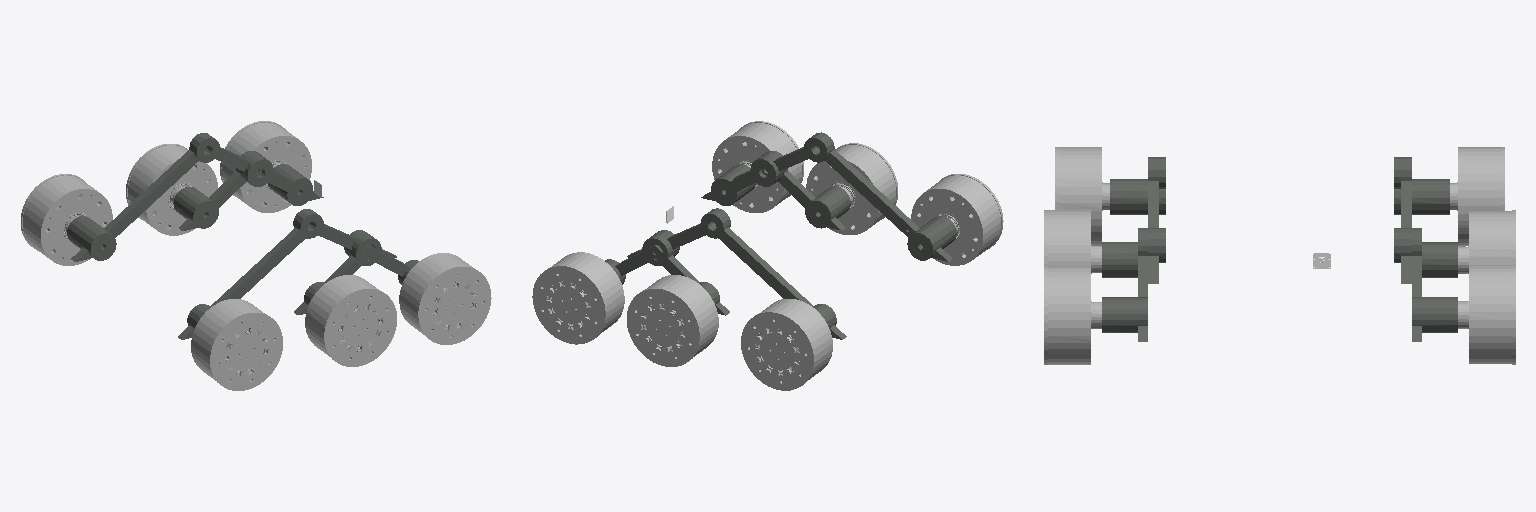
robot.urdf — auriga:
<?xml version="1.0" encoding="utf-8"?>
<!-- This URDF was automatically created by SolidWorks to URDF Exporter! Originally created by [author] ([email redacted]) 
     Commit Version: 1.6.0-4-g7f85cfe  Build Version: 1.6.7995.38578
     For more information, please see http://wiki.ros.org/sw_urdf_exporter -->
<robot
  name="auriga">
  <link
    name="base_link">
    <inertial>
      <origin
        xyz="-0.064102 0.13058 0.075146"
        rpy="0 0 0" />
      <mass
        value="7" />
      <inertia
        ixx="0.054205"
        ixy="5.3255E-05"
        ixz="0.003306"
        iyy="0.049215"
        iyz="1.0185E-06"
        izz="0.077749" />
    </inertial>
    <visual>
      <origin
        xyz="0 0 0"
        rpy="0 0 0" />
      <geometry>
        <mesh
          filename="package://auriga/meshes/base_link.STL" />
      </geometry>
      <material
        name="">
        <color
          rgba="0.2 0.2 0.2 1" />
      </material>
    </visual>
    <collision>
      <origin
        xyz="0 0 0"
        rpy="0 0 0" />
      <geometry>
        <mesh
          filename="package://auriga/meshes/base_link.STL" />
      </geometry>
    </collision>
  </link>
  <link
    name="rocker_1_link">
    <inertial>
      <origin
        xyz="-0.076932 -0.010223 -0.086892"
        rpy="0 0 0" />
      <mass
        value="1.5" />
      <inertia
        ixx="0.00055446"
        ixy="-0.00019575"
        ixz="-0.00089962"
        iyy="0.0036801"
        iyz="-7.225E-05"
        izz="0.0032548" />
    </inertial>
    <visual>
      <origin
        xyz="0 0 0"
        rpy="0 0 0" />
      <geometry>
        <mesh
          filename="package://auriga/meshes/rocker_1_link.STL" />
      </geometry>
      <material
        name="">
        <color
          rgba="0.42745 0.44706 0.42745 1" />
      </material>
    </visual>
    <collision>
      <origin
        xyz="0 0 0"
        rpy="0 0 0" />
      <geometry>
        <mesh
          filename="package://auriga/meshes/rocker_1_link.STL" />
      </geometry>
    </collision>
  </link>
  <joint
    name="rocker_1_joint"
    type="fixed">
    <origin
      xyz="-0.033 -0.0349903674977046 0.0926549569145568"
      rpy="0 0 0" />
    <parent
      link="base_link" />
    <child
      link="rocker_1_link" />
    <axis
      xyz="0 0 0" />
  </joint>
  <link
    name="bogie_1_link">
    <inertial>
      <origin
        xyz="-0.00063117 -0.014617 -0.067982"
        rpy="0 0 0" />
      <mass
        value="1.3" />
      <inertia
        ixx="0.00018539"
        ixy="-2.4832E-07"
        ixz="9.7781E-06"
        iyy="0.0012984"
        iyz="-2.6746E-05"
        izz="0.0012385" />
    </inertial>
    <visual>
      <origin
        xyz="0 0 0"
        rpy="0 0 0" />
      <geometry>
        <mesh
          filename="package://auriga/meshes/bogie_1_link.STL" />
      </geometry>
      <material
        name="">
        <color
          rgba="0.42745 0.44706 0.42745 1" />
      </material>
    </visual>
    <collision>
      <origin
        xyz="0 0 0"
        rpy="0 0 0" />
      <geometry>
        <mesh
          filename="package://auriga/meshes/bogie_1_link.STL" />
      </geometry>
    </collision>
  </link>
  <joint
    name="bogie_1_joint"
    type="revolute">
    <origin
      xyz="0.10013 -0.02051 -0.053968"
      rpy="0 0 0" />
    <parent
      link="rocker_1_link" />
    <child
      link="bogie_1_link" />
    <axis
      xyz="0 1 0" />
    <limit
      lower="-0.785"
      upper="0.785"
      effort="10"
      velocity="5" />
  </joint>
  <link
    name="wheel_5_link">
    <inertial>
      <origin
        xyz="-2.0878E-07 0.0041615 5.2366E-08"
        rpy="0 0 0" />
      <mass
        value="1" />
      <inertia
        ixx="0.0014002"
        ixy="-1.0049E-08"
        ixz="3.9839E-08"
        iyy="0.0021983"
        iyz="8.9136E-09"
        izz="0.0014002" />
    </inertial>
    <visual>
      <origin
        xyz="0 0 0"
        rpy="0 0 0" />
      <geometry>
        <mesh
          filename="package://auriga/meshes/wheel_5_link.STL" />
      </geometry>
      <material
        name="">
        <color
          rgba="0.75294 0.75294 0.75294 1" />
      </material>
    </visual>
    <collision>
      <origin
        xyz="0 0 0"
        rpy="0 0 0" />
      <geometry>
        <mesh
          filename="package://auriga/meshes/wheel_5_link.STL" />
      </geometry>
    </collision>
  </link>
  <joint
    name="wheel_5_joint"
    type="continuous">
    <origin
      xyz="-0.090727 -0.10265 -0.077849"
      rpy="0 0 0" />
    <parent
      link="bogie_1_link" />
    <child
      link="wheel_5_link" />
    <axis
      xyz="0 1 0" />
  </joint>
  <link
    name="wheel_6_link">
    <inertial>
      <origin
        xyz="0.38939 -0.010839 -0.00083276"
        rpy="0 0 0" />
      <mass
        value="1" />
      <inertia
        ixx="0.0014001"
        ixy="-1.1975E-08"
        ixz="3.1911E-08"
        iyy="0.0021983"
        iyz="6.0868E-09"
        izz="0.0014002" />
    </inertial>
    <visual>
      <origin
        xyz="0 0 0"
        rpy="0 0 0" />
      <geometry>
        <mesh
          filename="package://auriga/meshes/wheel_6_link.STL" />
      </geometry>
      <material
        name="">
        <color
          rgba="0.75294 0.75294 0.75294 1" />
      </material>
    </visual>
    <collision>
      <origin
        xyz="0 0 0"
        rpy="0 0 0" />
      <geometry>
        <mesh
          filename="package://auriga/meshes/wheel_6_link.STL" />
      </geometry>
    </collision>
  </link>
  <joint
    name="wheel_6_joint"
    type="continuous">
    <origin
      xyz="-0.30013 -0.08765 -0.078687"
      rpy="0 0 0" />
    <parent
      link="bogie_1_link" />
    <child
      link="wheel_6_link" />
    <axis
      xyz="0 1 0" />
  </joint>
  <link
    name="wheel_4_link">
    <inertial>
      <origin
        xyz="-0.38939 0.019161 0.00083282"
        rpy="0 0 0" />
      <mass
        value="1" />
      <inertia
        ixx="0.0014001"
        ixy="1.3224E-08"
        ixz="1.2945E-08"
        iyy="0.0021983"
        iyz="-2.3574E-09"
        izz="0.0014002" />
    </inertial>
    <visual>
      <origin
        xyz="0 0 0"
        rpy="0 0 0" />
      <geometry>
        <mesh
          filename="package://auriga/meshes/wheel_4_link.STL" />
      </geometry>
      <material
        name="">
        <color
          rgba="0.75294 0.75294 0.75294 1" />
      </material>
    </visual>
    <collision>
      <origin
        xyz="0 0 0"
        rpy="0 0 0" />
      <geometry>
        <mesh
          filename="package://auriga/meshes/wheel_4_link.STL" />
      </geometry>
    </collision>
  </link>
  <joint
    name="wheel_4_joint"
    type="continuous">
    <origin
      xyz="0.18939 -0.12316 -0.13349"
      rpy="0 0 0" />
    <parent
      link="rocker_1_link" />
    <child
      link="wheel_4_link" />
    <axis
      xyz="0 1 0" />
  </joint>
  <link
    name="rocker_2_link">
    <inertial>
      <origin
        xyz="-0.10993 0.31637 0.0057628"
        rpy="0 0 0" />
      <mass
        value="1.5" />
      <inertia
        ixx="0.00055446"
        ixy="0.00019575"
        ixz="-0.00089962"
        iyy="0.0036801"
        iyz="7.225E-05"
        izz="0.0032548" />
    </inertial>
    <visual>
      <origin
        xyz="0 0 0"
        rpy="0 0 0" />
      <geometry>
        <mesh
          filename="package://auriga/meshes/rocker_2_link.STL" />
      </geometry>
      <material
        name="">
        <color
          rgba="0.42745 0.44706 0.42745 1" />
      </material>
    </visual>
    <collision>
      <origin
        xyz="0 0 0"
        rpy="0 0 0" />
      <geometry>
        <mesh
          filename="package://auriga/meshes/rocker_2_link.STL" />
      </geometry>
    </collision>
  </link>
  <joint
    name="rocker_2_joint"
    type="fixed">
    <origin
      xyz="0 0 0"
      rpy="0 0 0" />
    <parent
      link="base_link" />
    <child
      link="rocker_2_link" />
    <axis
      xyz="0 0 0" />
  </joint>
  <link
    name="bogie_2_link">
    <inertial>
      <origin
        xyz="-0.00022018 0.014617 -0.067984"
        rpy="0 0 0" />
      <mass
        value="1.3" />
      <inertia
        ixx="0.00018531"
        ixy="8.6623E-08"
        ixz="3.4111E-06"
        iyy="0.0012984"
        iyz="2.6747E-05"
        izz="0.0012386" />
    </inertial>
    <visual>
      <origin
        xyz="0 0 0"
        rpy="0 0 0" />
      <geometry>
        <mesh
          filename="package://auriga/meshes/bogie_2_link.STL" />
      </geometry>
      <material
        name="">
        <color
          rgba="0.42745 0.44706 0.42745 1" />
      </material>
    </visual>
    <collision>
      <origin
        xyz="0 0 0"
        rpy="0 0 0" />
      <geometry>
        <mesh
          filename="package://auriga/meshes/bogie_2_link.STL" />
      </geometry>
    </collision>
  </link>
  <joint
    name="bogie_2_joint"
    type="revolute">
    <origin
      xyz="0.0670443300803985 0.326654617315038 0.0386879525429506"
      rpy="0 0 0" />
    <parent
      link="rocker_2_link" />
    <child
      link="bogie_2_link" />
    <axis
      xyz="0 -1 0" />
    <limit
      lower="-0.785"
      upper="0.785"
      effort="10"
      velocity="5" />
  </joint>
  <link
    name="wheel_2_link">
    <inertial>
      <origin
        xyz="1.1827E-07 -0.0041615 1.7985E-07"
        rpy="0 0 0" />
      <mass
        value="1" />
      <inertia
        ixx="0.0014002"
        ixy="-1.366E-09"
        ixz="-9.1487E-09"
        iyy="0.0021983"
        iyz="-1.3363E-08"
        izz="0.0014001" />
    </inertial>
    <visual>
      <origin
        xyz="0 0 0"
        rpy="0 0 0" />
      <geometry>
        <mesh
          filename="package://auriga/meshes/wheel_2_link.STL" />
      </geometry>
      <material
        name="">
        <color
          rgba="0.75294 0.75294 0.75294 1" />
      </material>
    </visual>
    <collision>
      <origin
        xyz="0 0 0"
        rpy="0 0 0" />
      <geometry>
        <mesh
          filename="package://auriga/meshes/wheel_2_link.STL" />
      </geometry>
    </collision>
  </link>
  <joint
    name="wheel_2_joint"
    type="continuous">
    <origin
      xyz="-0.090254 0.10265 -0.078396"
      rpy="0 0 0" />
    <parent
      link="bogie_2_link" />
    <child
      link="wheel_2_link" />
    <axis
      xyz="0 -1 0" />
  </joint>
  <link
    name="wheel_1_link">
    <inertial>
      <origin
        xyz="-5.2503E-08 -0.0041615 2.0875E-07"
        rpy="0 0 0" />
      <mass
        value="1" />
      <inertia
        ixx="0.0014002"
        ixy="8.9202E-09"
        ixz="3.9846E-08"
        iyy="0.0021983"
        iyz="-1.0043E-08"
        izz="0.0014002" />
    </inertial>
    <visual>
      <origin
        xyz="0 0 0"
        rpy="0 0 0" />
      <geometry>
        <mesh
          filename="package://auriga/meshes/wheel_1_link.STL" />
      </geometry>
      <material
        name="">
        <color
          rgba="0.75294 0.75294 0.75294 1" />
      </material>
    </visual>
    <collision>
      <origin
        xyz="0 0 0"
        rpy="0 0 0" />
      <geometry>
        <mesh
          filename="package://auriga/meshes/wheel_1_link.STL" />
      </geometry>
    </collision>
  </link>
  <joint
    name="wheel_1_joint"
    type="continuous">
    <origin
      xyz="0.089745 0.10265 -0.078979"
      rpy="0 0 0" />
    <parent
      link="bogie_2_link" />
    <child
      link="wheel_1_link" />
    <axis
      xyz="0 -1 0" />
  </joint>
  <link
    name="wheel_3_link">
    <inertial>
      <origin
        xyz="-2.084E-07 -0.0041615 5.3851E-08"
        rpy="0 0 0" />
      <mass
        value="1" />
      <inertia
        ixx="0.0014001"
        ixy="1.3088E-08"
        ixz="-1.6727E-08"
        iyy="0.0021983"
        iyz="3.0227E-09"
        izz="0.0014002" />
    </inertial>
    <visual>
      <origin
        xyz="0 0 0"
        rpy="0 0 0" />
      <geometry>
        <mesh
          filename="package://auriga/meshes/wheel_3_link.STL" />
      </geometry>
      <material
        name="">
        <color
          rgba="0.75294 0.75294 0.75294 1" />
      </material>
    </visual>
    <collision>
      <origin
        xyz="0 0 0"
        rpy="0 0 0" />
      <geometry>
        <mesh
          filename="package://auriga/meshes/wheel_3_link.STL" />
      </geometry>
    </collision>
  </link>
  <joint
    name="wheel_3_joint"
    type="continuous">
    <origin
      xyz="-0.233 0.4143 -0.04"
      rpy="0 0 0" />
    <parent
      link="rocker_2_link" />
    <child
      link="wheel_3_link" />
    <axis
      xyz="0 -1 0" />
  </joint>
  <link
    name="lidar_link">
    <inertial>
      <origin
        xyz="-0.0068988 0.022525 -0.025224"
        rpy="0 0 0" />
      <mass
        value="0.2" />
      <inertia
        ixx="2.791E-05"
        ixy="1.5175E-07"
        ixz="3.35E-07"
        iyy="4.4351E-05"
        iyz="-2.9037E-08"
        izz="6.9475E-05" />
    </inertial>
    <visual>
      <origin
        xyz="0 0 0"
        rpy="0 0 0" />
      <geometry>
        <mesh
          filename="package://auriga/meshes/lidar_link.STL" />
      </geometry>
      <material
        name="">
        <color
          rgba="0.75294 0.75294 0.75294 1" />
      </material>
    </visual>
    <collision>
      <origin
        xyz="0 0 0"
        rpy="0 0 0" />
      <geometry>
        <mesh
          filename="package://auriga/meshes/lidar_link.STL" />
      </geometry>
    </collision>
  </link>
  <joint
    name="lidar_joint"
    type="fixed">
    <origin
      xyz="0.072107 0.11141 0.23235"
      rpy="0 0 0" />
    <parent
      link="base_link" />
    <child
      link="lidar_link" />
    <axis
      xyz="0 0 0" />
  </joint>
  <link
    name="camera_3d_link">
    <inertial>
      <origin
        xyz="-0.015535 0.001052 -0.0099096"
        rpy="0 0 0" />
      <mass
        value="0.1" />
      <inertia
        ixx="3.405E-05"
        ixy="-8.0297E-07"
        ixz="-3.2141E-07"
        iyy="1.0078E-05"
        iyz="1.6759E-08"
        izz="2.6539E-05" />
    </inertial>
    <visual>
      <origin
        xyz="0 0 0"
        rpy="0 0 0" />
      <geometry>
        <mesh
          filename="package://auriga/meshes/camera_3d_link.STL" />
      </geometry>
      <material
        name="">
        <color
          rgba="0.59216 0.66667 0.68235 1" />
      </material>
    </visual>
    <collision>
      <origin
        xyz="0 0 0"
        rpy="0 0 0" />
      <geometry>
        <mesh
          filename="package://auriga/meshes/camera_3d_link.STL" />
      </geometry>
    </collision>
  </link>
  <joint
    name="camera_3d_joint"
    type="fixed">
    <origin
      xyz="0.14663 0.11323 0.053793"
      rpy="0 0 0" />
    <parent
      link="base_link" />
    <child
      link="camera_3d_link" />
    <axis
      xyz="0 0 0" />
  </joint>
  <link
    name="camera_2d_link">
    <inertial>
      <origin
        xyz="0 0 0"
        rpy="0 0 0" />
      <mass
        value="0.1" />
      <inertia
        ixx="0"
        ixy="0"
        ixz="0"
        iyy="0"
        iyz="0"
        izz="0" />
    </inertial>
    <visual>
      <origin
        xyz="0 0 0"
        rpy="0 0 0" />
      <geometry>
        <mesh
          filename="package://auriga/meshes/camera_2d_link.STL" />
      </geometry>
      <material
        name="">
        <color
          rgba="1 1 1 1" />
      </material>
    </visual>
    <collision>
      <origin
        xyz="0 0 0"
        rpy="0 0 0" />
      <geometry>
        <mesh
          filename="package://auriga/meshes/camera_2d_link.STL" />
      </geometry>
    </collision>
  </link>
  <joint
    name="camera_2d_joint"
    type="fixed">
    <origin
      xyz="0.124556268215782 0.194110275120974 0.0275499999999748"
      rpy="0 0 3.14159265358979" />
    <parent
      link="base_link" />
    <child
      link="camera_2d_link" />
    <axis
      xyz="0 0 0" />
  </joint>
</robot>

--- Render facts (derived) ---
3 views of the same robot in one strip: view 1: azimuth 30°, elevation 25°; view 2: azimuth 150°, elevation 25°; view 3: azimuth 270°, elevation 25° (orthographic).
Robot: auriga — 14 links, 13 joints (2 revolute, 6 continuous, 5 fixed); root link base_link; default pose: every joint at zero.
Visible links, largest first — view 1: wheel_4_link, wheel_6_link, wheel_5_link, rocker_2_link, wheel_3_link, wheel_1_link, wheel_2_link, rocker_1_link, bogie_2_link, bogie_1_link; view 2: wheel_1_link, wheel_2_link, wheel_3_link, rocker_1_link, wheel_4_link, wheel_6_link, wheel_5_link, rocker_2_link, bogie_1_link, bogie_2_link; view 3: wheel_6_link, wheel_1_link, bogie_1_link, bogie_2_link, wheel_3_link, wheel_4_link, rocker_1_link, rocker_2_link, wheel_5_link, wheel_2_link.
Boxes of the visible links, x1,y1,x2,y2 form: wheel_4_link: (191,299,282,390); wheel_6_link: (399,253,491,344); wheel_5_link: (305,275,396,366); rocker_2_link: (67,133,291,261); wheel_3_link: (21,174,112,265); wheel_1_link: (220,121,311,212); wheel_2_link: (126,144,217,235); rocker_1_link: (178,209,396,339); bogie_2_link: (173,151,323,230); bogie_1_link: (294,235,418,314); wheel_1_link: (532,252,624,344); wheel_2_link: (627,275,718,366); wheel_3_link: (741,299,832,390); rocker_1_link: (733,132,956,261); wheel_4_link: (911,174,1003,265); wheel_6_link: (712,121,803,212); wheel_5_link: (806,143,897,234); rocker_2_link: (627,208,846,339); bogie_1_link: (701,151,850,230); bogie_2_link: (605,235,729,315); wheel_6_link: (1044,265,1101,364); wheel_1_link: (1458,265,1515,364); bogie_1_link: (1102,228,1147,341); bogie_2_link: (1412,228,1457,341); wheel_3_link: (1450,147,1504,245); wheel_4_link: (1055,147,1109,245); rocker_1_link: (1110,157,1165,283); rocker_2_link: (1394,157,1449,283); wheel_5_link: (1044,210,1101,273); wheel_2_link: (1458,210,1515,273).
Bounding box of the posed robot: 0.5298 × 0.6575 × 0.223 m (x, y, z).
Meshes: 14 distinct files referenced, 11 mesh visuals loaded (11 binary STL); not drawn: 3 (reference not matched to a file when rendering).